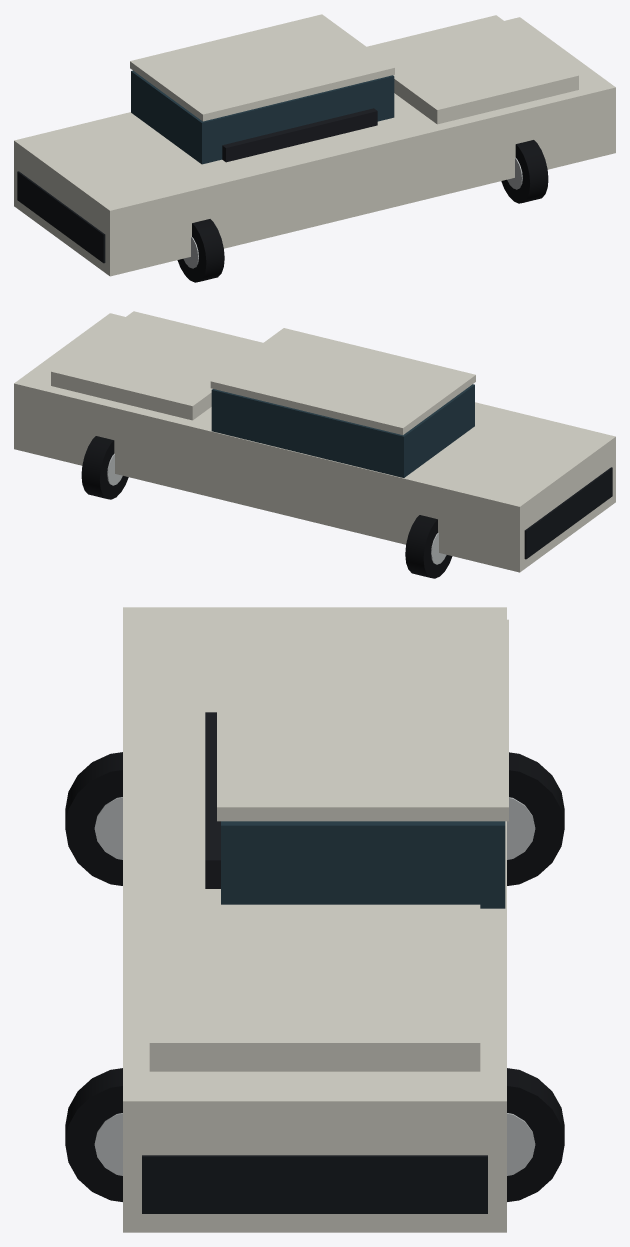
Rendered from rr_phantom_vii_ewb.glb.
3 renders of one model, top to bottom at view 1: azimuth 30°, elevation 25°; view 2: azimuth 150°, elevation 25°; view 3: azimuth 270°, elevation 25°, orthographic. The views are drawn at different scales.
Parts seen in each view (by area): view 1: body, roof, hood, cabin, interior, rear_bumper, front_right_wheel, rear_right_wheel; view 2: body, roof, hood, cabin, rear_bumper, front_left_wheel, rear_left_wheel; view 3: body, roof, hood, cabin, front_bumper, front_left_wheel, front_right_wheel, rear_right_wheel, rear_left_wheel, interior.
Part boxes in pixels (bbox=[...]): body: bbox=[14, 17, 615, 276]; roof: bbox=[130, 14, 394, 121]; hood: bbox=[367, 15, 578, 124]; cabin: bbox=[131, 70, 394, 164]; interior: bbox=[222, 108, 377, 162]; rear_bumper: bbox=[17, 171, 105, 263]; front_right_wheel: bbox=[501, 140, 548, 203]; rear_right_wheel: bbox=[177, 219, 224, 282]; body: bbox=[14, 313, 615, 572]; roof: bbox=[210, 328, 475, 434]; hood: bbox=[51, 311, 262, 420]; cabin: bbox=[211, 384, 474, 477]; rear_bumper: bbox=[524, 467, 612, 559]; front_left_wheel: bbox=[81, 436, 128, 499]; rear_left_wheel: bbox=[405, 515, 452, 578]; body: bbox=[123, 607, 506, 1232]; roof: bbox=[217, 619, 508, 821]; hood: bbox=[149, 904, 480, 1071]; cabin: bbox=[221, 821, 505, 908]; front_bumper: bbox=[142, 1155, 487, 1213]; front_left_wheel: bbox=[507, 1068, 564, 1201]; front_right_wheel: bbox=[65, 1068, 122, 1201]; rear_right_wheel: bbox=[65, 752, 122, 885]; rear_left_wheel: bbox=[507, 752, 564, 885]; interior: bbox=[205, 712, 220, 888].
Size of the model in its own units: 6.12 by 1.63 by 2.6.
